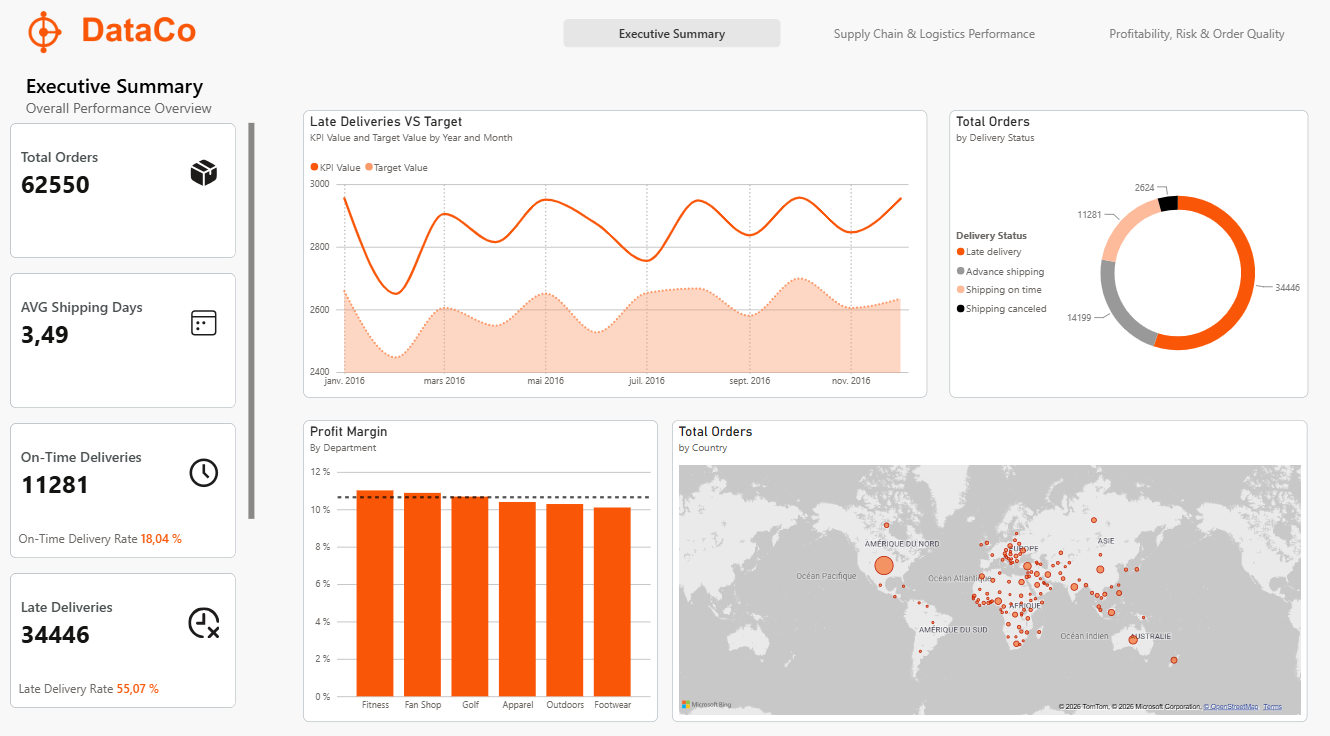

The dashboard page shown, as its layout file describes it:
{"tool":"powerbi","page":{"name":"Executive Summary","canvas":[1800,1000],"ordinal":0},"visuals":[{"type":"image","box":[32.2,13.3,261.1,74.4],"z":0},{"type":"pageNavigator","box":[755,32.5,992,38],"z":1000},{"type":"textbox","box":[32.5,98.3,700,72.5],"z":2000},{"type":"cardVisual","fields":{"Data":["Measures Table.Total Orders","Measures Table.Average Shipping Days","Measures Table.On-Time Deliveries","Measures Table.Late Deliveries","Measures Table.Advanced Deliveries","Measures Table.Canceled Deliveries"]},"box":[15,182.5,347.5,817.5],"z":3000},{"type":"clusteredColumnChart","title":"Profit Margin","fields":{"Category":["Dim - Departments Data.Department Name"],"Y":["Measures Table.Profit Margin %"]},"box":[407.5,567.5,472.5,402.5],"z":4000},{"type":"lineChart","title":"Late Deliveries VS Target","fields":{"Category":["Dim - Date.Full Date.Variation.Date Hierarchy.Year","Dim - Date.Full Date.Variation.Date Hierarchy.Month","Dim - Date.Full Date.Variation.Date Hierarchy.Day"],"Y":["Measures Table.Late Deliveries","Measures Table.Late Deliveries Target"]},"box":[407.5,170,832.5,367.5],"z":5000},{"type":"donutChart","fields":{"Category":["Fact - DataCo Supply Chain Dataset.Delivery Status"],"Y":["Measures Table.Total Orders"]},"box":[1270,170,477.5,367.5],"z":6000},{"type":"map","fields":{"Category":["Dim - Cities Data.Country"],"Size":["Measures Table.Total Orders"]},"box":[900,567.5,847.5,402.5],"z":7000}]}

Visuals, with their boxes in screenshot pixels (x1, y1, x2, y2), scaled from the page's 1800x1000 canvas onto the 1330x736 screenshot:
image: (x1=24, y1=10, x2=217, y2=65)
pageNavigator: (x1=558, y1=24, x2=1291, y2=52)
textbox: (x1=24, y1=72, x2=541, y2=126)
cardVisual - Measures Table.Total Orders x Measures Table.Average Shipping Days: (x1=11, y1=134, x2=268, y2=735)
"Profit Margin" clusteredColumnChart: (x1=301, y1=418, x2=650, y2=714)
"Late Deliveries VS Target" lineChart: (x1=301, y1=125, x2=916, y2=396)
donutChart - Fact - DataCo Supply Chain Dataset.Delivery Status x Measures Table.Total Orders: (x1=938, y1=125, x2=1291, y2=396)
map - Dim - Cities Data.Country x Measures Table.Total Orders: (x1=665, y1=418, x2=1291, y2=714)
